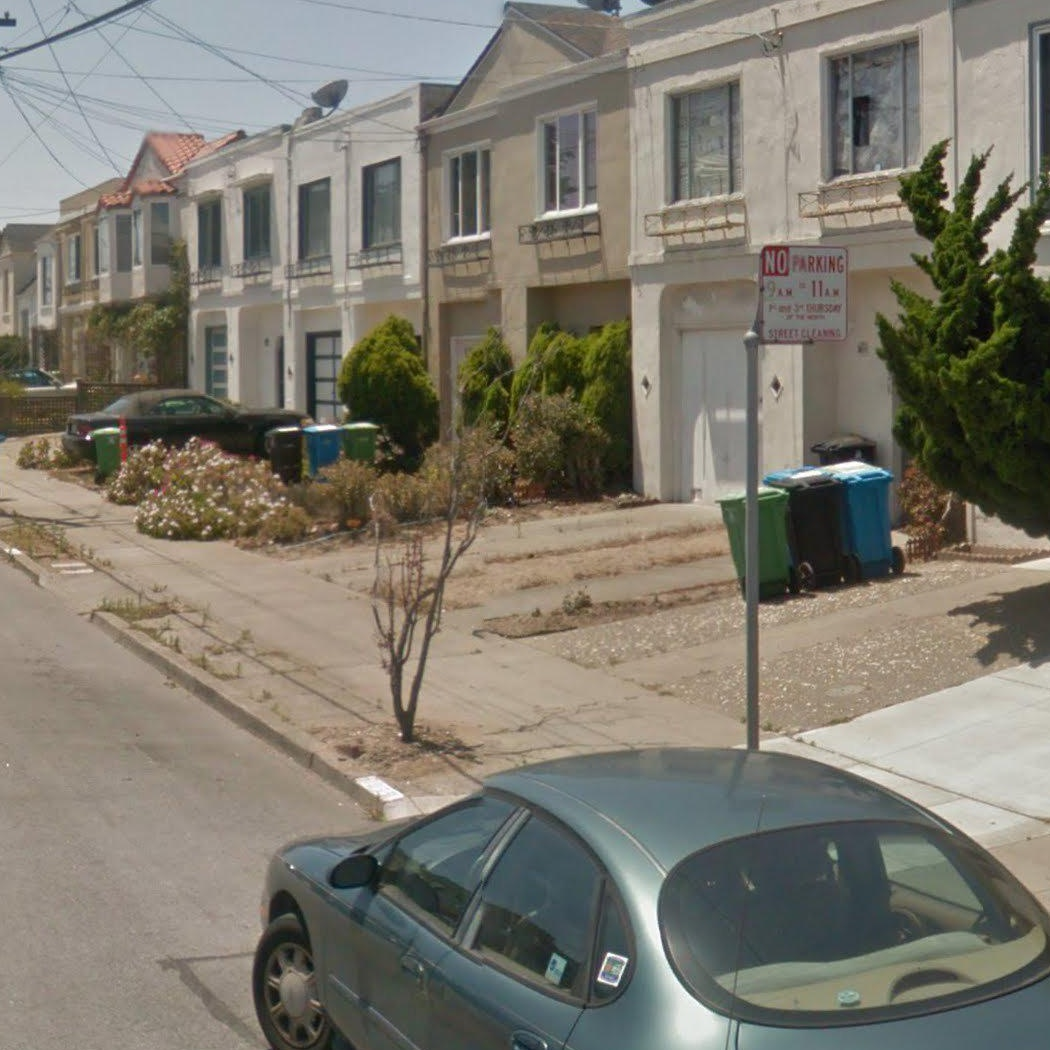No Parking: (756, 243, 849, 345)
